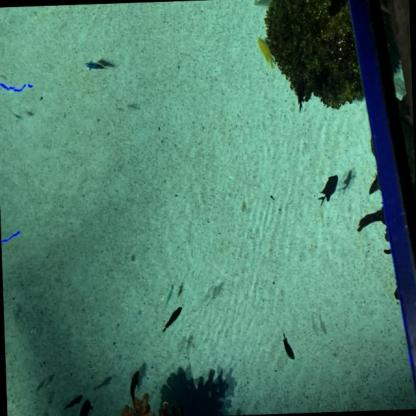fish: (316, 172, 338, 208), (160, 305, 184, 335), (127, 367, 142, 408), (257, 36, 275, 69), (280, 332, 297, 364), (62, 390, 83, 412), (85, 57, 106, 75), (76, 398, 96, 415), (164, 286, 174, 307)
